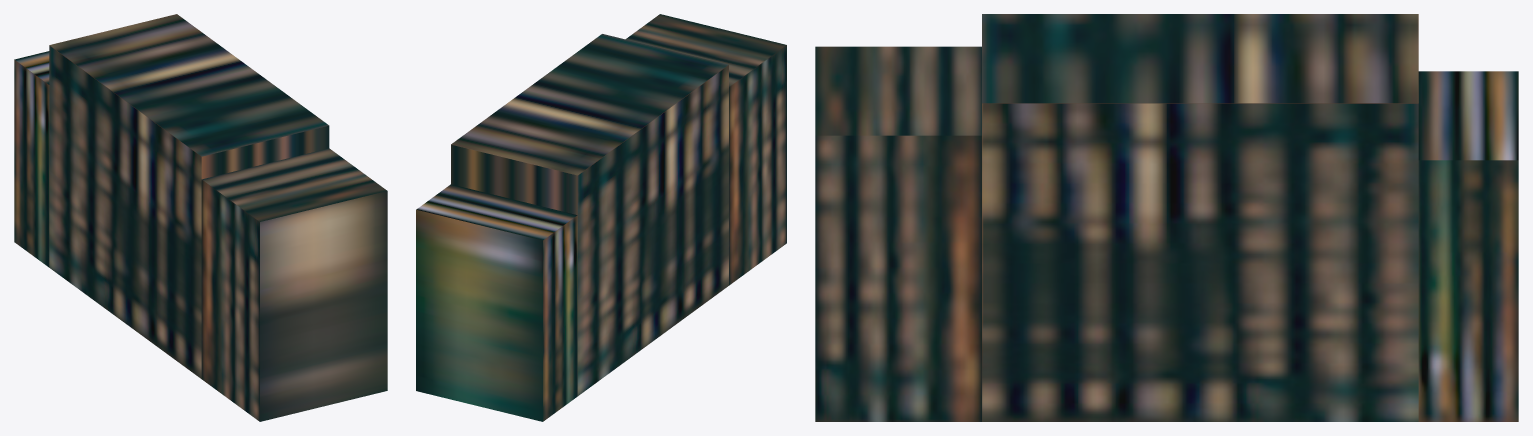
Rendered from Books1.glb.
3 renders of one model, left to right at view 1: azimuth 30°, elevation 25°; view 2: azimuth 150°, elevation 25°; view 3: azimuth 270°, elevation 25°, orthographic. The views are drawn at different scales.
Visible parts, largest first — view 1: Cube; view 2: Cube; view 3: Cube.
Part boxes in pixels (x1=…): Cube: x1=14, y1=14, x2=387, y2=421; Cube: x1=416, y1=14, x2=786, y2=421; Cube: x1=815, y1=14, x2=1518, y2=421.
Size of the model in its own units: 0.6 by 1 by 2.
Materials: 1 (1 with a texture image).
